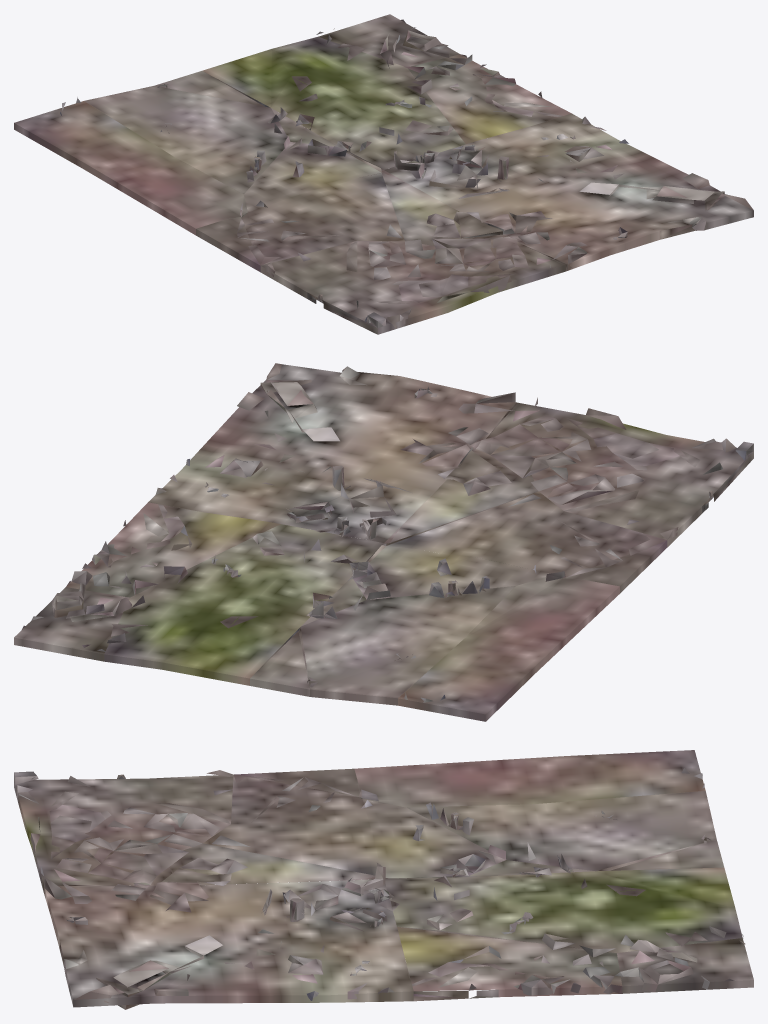
3 views of the same model, one above another, from view 1: azimuth 30°, elevation 25°; view 2: azimuth 150°, elevation 25°; view 3: azimuth 270°, elevation 25° (orthographic). The views are drawn at different scales.
Visible parts, largest first — view 1: Mesh_0; view 2: Mesh_0; view 3: Mesh_0.
Boxes of the visible parts, x1,y1,x2,y2 form: Mesh_0: (14, 14, 753, 334); Mesh_0: (14, 363, 753, 721); Mesh_0: (14, 750, 753, 1009).
Size of the model in its own units: 2131 by 149 by 2636.
1 material, 1 textured.
